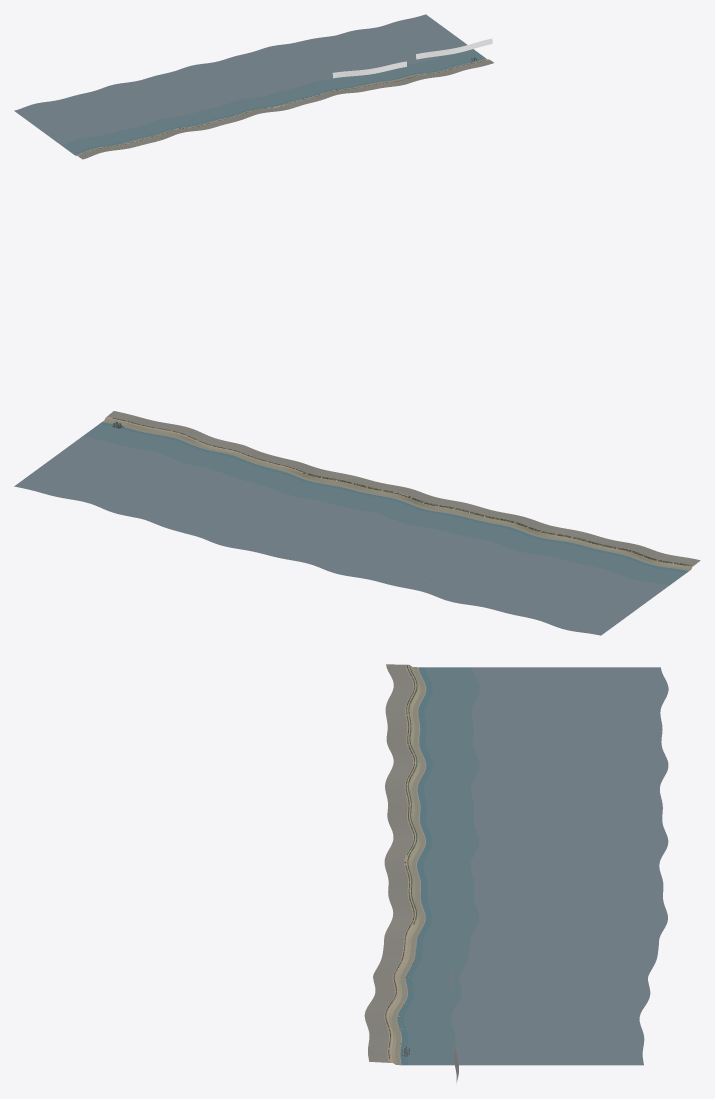
Rendered from pikeplace.glb.
3 views of the same model, one above another, from view 1: azimuth 30°, elevation 25°; view 2: azimuth 150°, elevation 25°; view 3: azimuth 270°, elevation 25° (orthographic). The views are drawn at different scales.
Visible parts, largest first — view 1: ElliottWater_002, ElliottWater_019, ElliottWater_028, ElliottWater_011, ElliottWater_010, ElliottWater_036, ElliottWater_041, ElliottWater_027, ElliottWater_015, ElliottWater_037, ElliottWater_024, OlympicRidge (+29 smaller); view 2: ElliottWater_002, ElliottWater_019, ElliottWater_028, ElliottWater_011, ElliottWater_010, ElliottWater_036, ElliottWater_041, ElliottWater_037, ElliottWater_027, ElliottWater_015, ElliottWater_032, ElliottWater_024 (+25 smaller); view 3: ElliottWater_002, ElliottWater_028, ElliottWater_019, ElliottWater_011, ElliottWater_010, ElliottWater_036, ElliottWater_041, ElliottWater_037, ElliottWater_027, ElliottWater_015, ElliottWater_032, ElliottWater_024 (+31 smaller).
Boxes of the visible parts, bbox=[...] form: ElliottWater_002: bbox=[23, 101, 100, 149]; ElliottWater_019: bbox=[178, 63, 255, 111]; ElliottWater_028: bbox=[266, 43, 340, 91]; ElliottWater_011: bbox=[112, 80, 185, 128]; ElliottWater_010: bbox=[92, 85, 172, 132]; ElliottWater_036: bbox=[340, 29, 415, 76]; ElliottWater_041: bbox=[385, 20, 461, 67]; ElliottWater_027: bbox=[250, 47, 327, 94]; ElliottWater_015: bbox=[145, 74, 219, 121]; ElliottWater_037: bbox=[363, 26, 428, 74]; ElliottWater_024: bbox=[228, 54, 301, 101]; OlympicRidge: bbox=[332, 38, 492, 78]; ElliottWater_002: bbox=[547, 563, 661, 632]; ElliottWater_019: bbox=[323, 508, 435, 577]; ElliottWater_028: bbox=[196, 478, 314, 547]; ElliottWater_011: bbox=[420, 533, 539, 601]; ElliottWater_010: bbox=[453, 537, 557, 608]; ElliottWater_036: bbox=[104, 448, 215, 517]; ElliottWater_041: bbox=[47, 430, 151, 500]; ElliottWater_037: bbox=[81, 443, 200, 508]; ElliottWater_027: bbox=[230, 482, 329, 552]; ElliottWater_015: bbox=[386, 520, 489, 589]; ElliottWater_032: bbox=[151, 462, 264, 529]; ElliottWater_024: bbox=[265, 491, 369, 559]; ElliottWater_002: bbox=[425, 676, 668, 702]; ElliottWater_028: bbox=[423, 914, 667, 939]; ElliottWater_019: bbox=[425, 827, 668, 852]; ElliottWater_011: bbox=[423, 765, 668, 788]; ElliottWater_010: bbox=[423, 743, 668, 765]; ElliottWater_036: bbox=[407, 982, 650, 1003]; ElliottWater_041: bbox=[401, 1024, 644, 1043]; ElliottWater_037: bbox=[402, 997, 646, 1021]; ElliottWater_027: bbox=[423, 897, 667, 916]; ElliottWater_015: bbox=[419, 794, 662, 811]; ElliottWater_032: bbox=[413, 952, 657, 971]; ElliottWater_024: bbox=[420, 875, 663, 891].
Size of the model in its own units: 13902 by 1621 by 7017.
